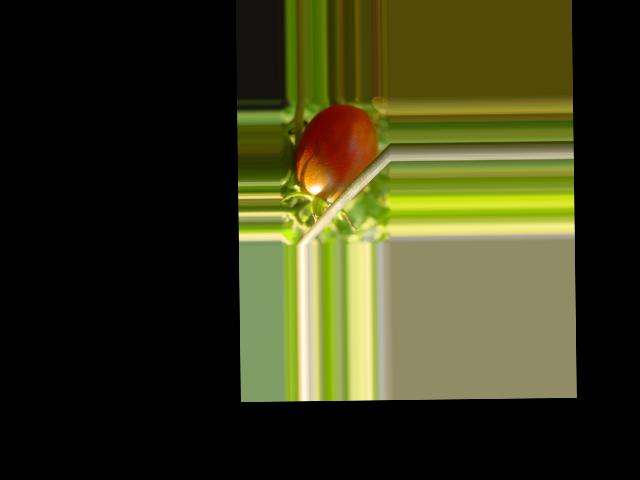tomato: (296, 104, 377, 202)
